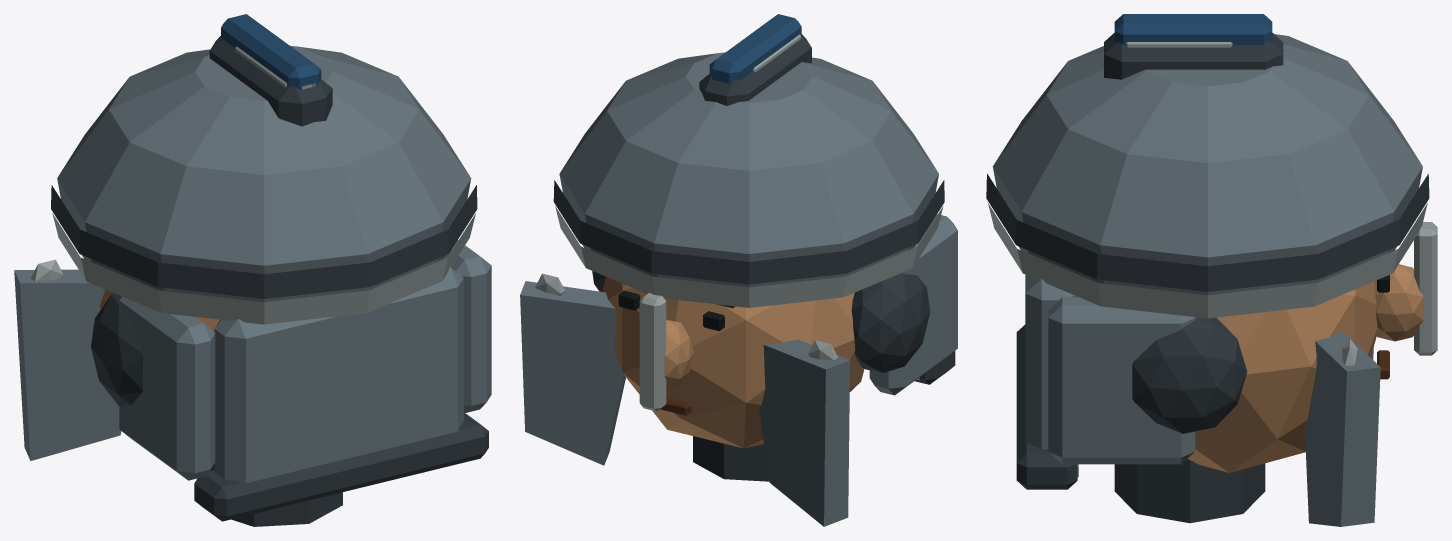
File: Head.glb
3 renders of one model, left to right at view 1: azimuth 30°, elevation 25°; view 2: azimuth 150°, elevation 25°; view 3: azimuth 270°, elevation 25°, orthographic. The views are drawn at different scales.
Parts seen in each view (by area): view 1: Sculpture; view 2: Sculpture; view 3: Sculpture.
Boxes of the visible parts, x1,y1,x2,y2 form: Sculpture: (14, 14, 491, 526); Sculpture: (520, 14, 957, 526); Sculpture: (986, 14, 1437, 526).
Size of the model in its own units: 0.618 by 0.7275 by 0.6295.
